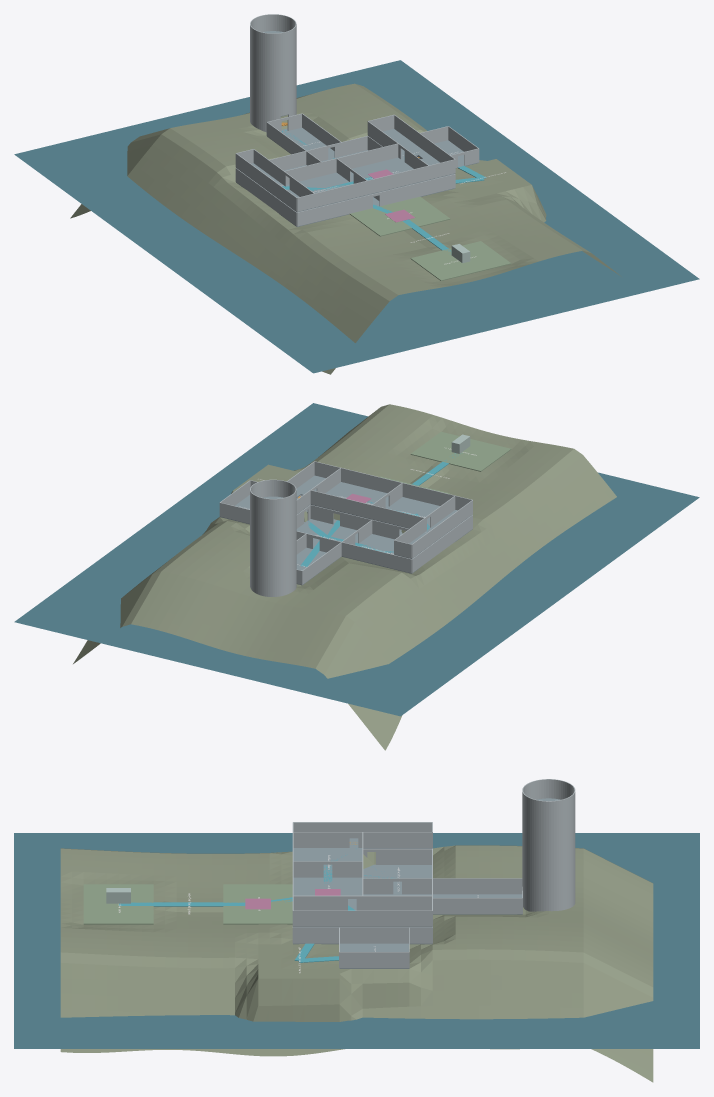
File: rough-shell.glb
3 renders of one model, top to bottom at view 1: azimuth 30°, elevation 25°; view 2: azimuth 150°, elevation 25°; view 3: azimuth 270°, elevation 25°, orthographic. The views are drawn at different scales.
Parts seen in each view (by area): view 1: WATER PLACEHOLDER / layers and transparency pending, Authored headland terrain, Floor stage, Floor porch, Round shell tower5, Wall service-upper W, Wall service-stair W, Wall study S, Wall upperhall E, Wall study N, Round shell tower1, Round shell tower3 (+8 smaller); view 2: Authored headland terrain, WATER PLACEHOLDER / layers and transparency pending, Floor stage, Round shell tower5, Wall service-upper W, Wall study N, Wall service-stair W, Round shell tower4, Round shell tower3, Round shell tower1, Round shell tower2, Wall study S (+8 smaller); view 3: Authored headland terrain, WATER PLACEHOLDER / layers and transparency pending, Floor porch, Floor stage, Wall upperhall E, Wall stairs E, Round shell tower5, Wall passage W, Wall passage E, Wall service-upper W, Floor study, Wall generator E (+18 smaller).
Part boxes in pixels (x1,y1,x2,y2): WATER PLACEHOLDER / layers and transparency pending: (14,60,699,373); Authored headland terrain: (70,83,621,374); Floor stage: (410,241,511,280); Floor porch: (350,196,450,236); Round shell tower5: (250,14,296,50); Wall service-upper W: (235,153,296,211); Wall service-stair W: (235,168,296,226); Wall study S: (367,165,428,194); Wall upperhall E: (394,115,455,172); Wall study N: (337,143,398,168); Round shell tower1: (250,90,296,116); Round shell tower3: (250,57,296,83); Authored headland terrain: (73,404,616,750); WATER PLACEHOLDER / layers and transparency pending: (14,403,699,716); Floor stage: (410,431,511,471); Round shell tower5: (250,479,296,515); Wall service-upper W: (412,500,472,558); Wall study N: (310,490,371,518); Wall service-stair W: (412,515,472,572); Round shell tower4: (250,506,296,532); Round shell tower3: (250,523,296,548); Round shell tower1: (250,556,296,581); Round shell tower2: (250,540,296,565); Wall study S: (341,467,401,493); Authored headland terrain: (60,845,653,1082); WATER PLACEHOLDER / layers and transparency pending: (14,833,699,1048); Floor porch: (223,884,292,924); Floor stage: (83,884,153,924); Wall upperhall E: (293,910,432,926); Wall stairs E: (293,927,432,943); Round shell tower5: (522,779,575,820); Wall passage W: (433,878,522,894); Wall passage E: (433,898,522,913); Wall service-upper W: (293,822,432,838); Floor study: (293,877,362,910); Wall generator E: (339,952,409,968).
Size of the model in its own units: 88 by 41.23 by 118.
